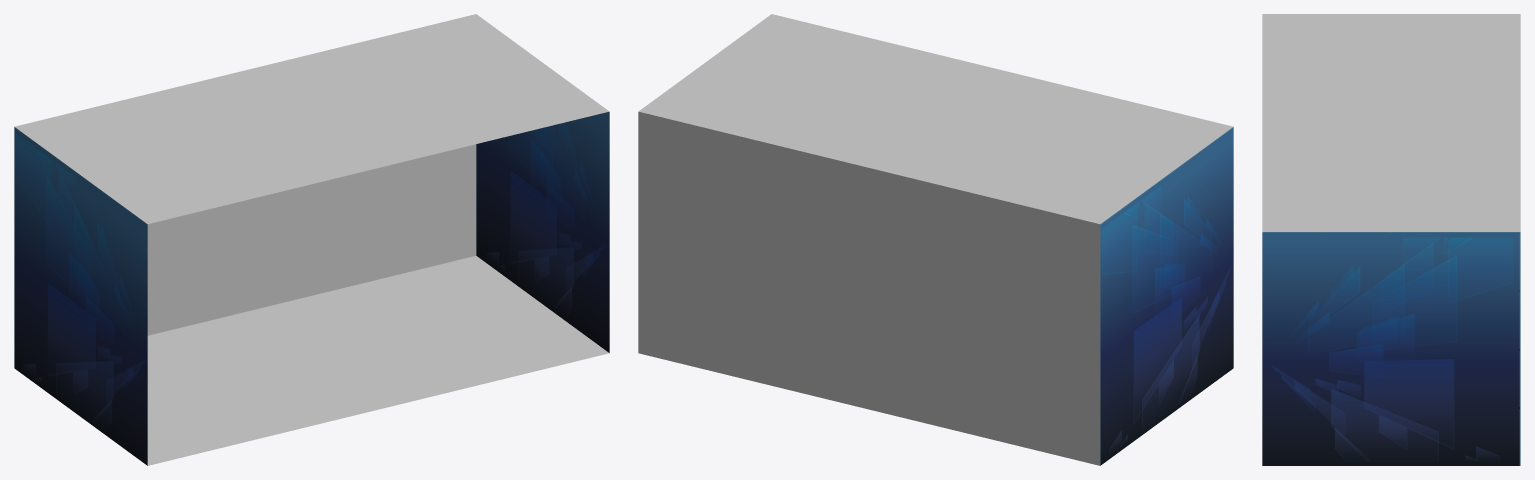
Rendered from interfacebox2.fbx.
3 views of the same model, side by side, from view 1: azimuth 30°, elevation 25°; view 2: azimuth 150°, elevation 25°; view 3: azimuth 270°, elevation 25° (orthographic). The views are drawn at different scales.
Parts seen in each view (by area): view 1: interfacebox1:grid1, interfacebox1:grid, interfacebox1:grid2, interfacebox1:grid4, interfacebox1:grid3; view 2: interfacebox1:grid2, interfacebox1:grid1, interfacebox1:grid4; view 3: interfacebox1:grid3, interfacebox1:grid1.
Boxes of the visible parts, box(x1,y1,x2,y2) form: interfacebox1:grid1: box(15, 14, 608, 223); interfacebox1:grid: box(147, 256, 608, 465); interfacebox1:grid2: box(147, 144, 476, 335); interfacebox1:grid4: box(14, 127, 147, 465); interfacebox1:grid3: box(476, 111, 609, 352); interfacebox1:grid2: box(638, 111, 1100, 465); interfacebox1:grid1: box(639, 14, 1232, 223); interfacebox1:grid4: box(1100, 127, 1233, 465); interfacebox1:grid3: box(1262, 232, 1520, 465); interfacebox1:grid1: box(1262, 14, 1520, 231).
Bounding box in the file's own units: 40 × 20 × 20.
